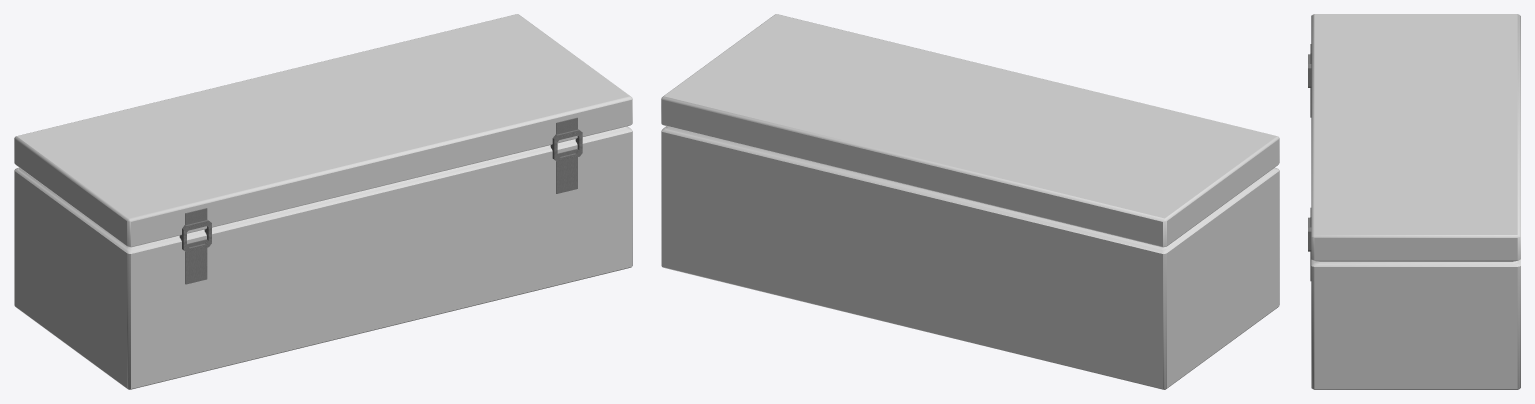
File: Metal storage box.FBX
3 views of the same model, side by side, from view 1: azimuth 30°, elevation 25°; view 2: azimuth 150°, elevation 25°; view 3: azimuth 270°, elevation 25° (orthographic). The views are drawn at different scales.
Visible parts, largest first — view 1: Metal storage box; view 2: Metal storage box; view 3: Metal storage box.
Boxes of the visible parts, x1,y1,x2,y2 form: Metal storage box: (14, 14, 632, 389); Metal storage box: (661, 14, 1279, 389); Metal storage box: (1308, 14, 1520, 389).
Bounding box in the file's own units: 55.07 × 17.86 × 22.22.
Materials: 2 (1 with a texture image).
